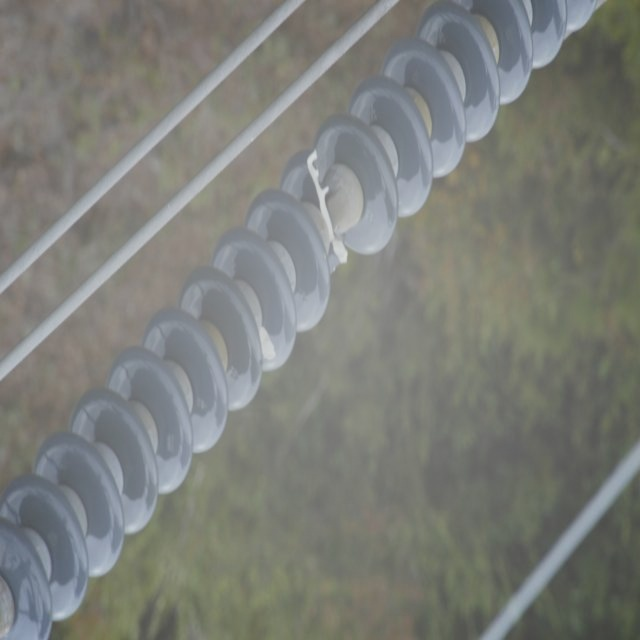broken: (306, 145, 348, 273)
insulator: (1, 0, 606, 639)
